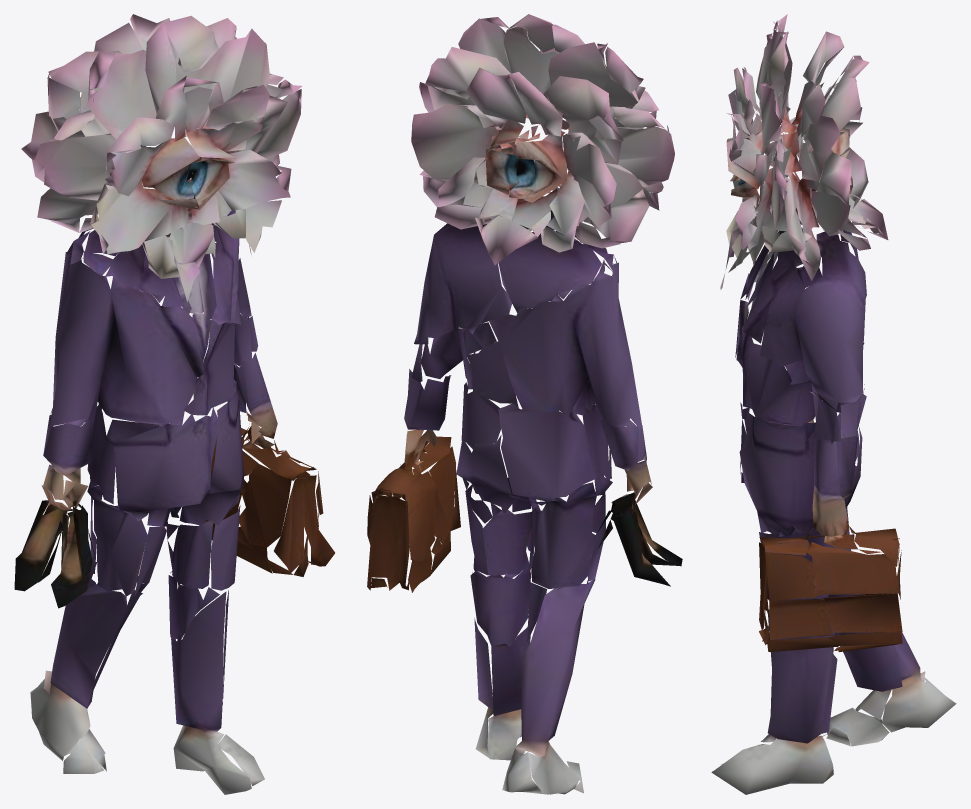
Rendered from crowd_workgirl.glb.
3 views of the same model, side by side, from view 1: azimuth 30°, elevation 25°; view 2: azimuth 150°, elevation 25°; view 3: azimuth 270°, elevation 25° (orthographic). The views are drawn at different scales.
Visible parts, largest first — view 1: tripo_node_4dcd1692-ba07-4971-a005-472ad7834de4; view 2: tripo_node_4dcd1692-ba07-4971-a005-472ad7834de4; view 3: tripo_node_4dcd1692-ba07-4971-a005-472ad7834de4.
Part boxes in pixels (x1,y1,x2,y2): tripo_node_4dcd1692-ba07-4971-a005-472ad7834de4: (14, 14, 334, 794); tripo_node_4dcd1692-ba07-4971-a005-472ad7834de4: (367, 14, 682, 794); tripo_node_4dcd1692-ba07-4971-a005-472ad7834de4: (711, 14, 956, 794).
Size of the model in its own units: 0.756 by 1.87 by 0.5665.
1 material, 1 textured.
